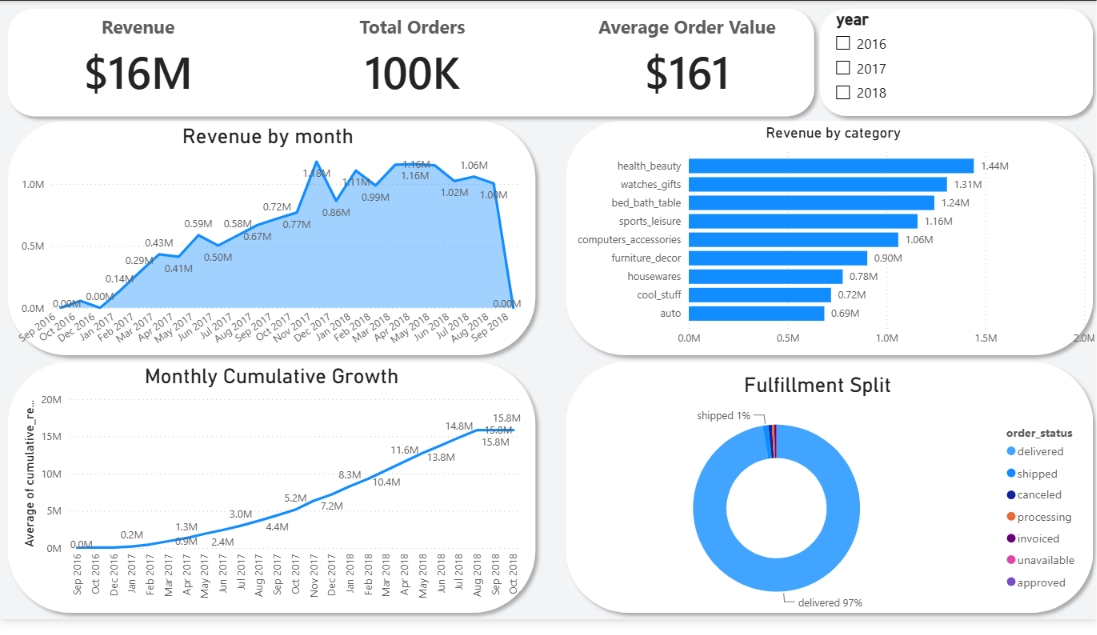

The dashboard page shown, as its layout file describes it:
{"tool":"powerbi","page":{"name":"Revenue & Sales Overview","canvas":[1280,810],"ordinal":0},"visuals":[{"type":"group","id":"g1","title":"Background","box":[0,0,1280.9,810],"z":0},{"type":"areaChart","title":"Revenue grew through 2017 and held around R$1M a month in 2018","fields":{"Category":["Sales & Revenue Data.month_date"],"Y":["Sales & Revenue Data.Total revenue"]},"box":[12.1,201.5,618.7,278.8],"z":1000},{"type":"barChart","title":"Health & Beauty and Watches & Gifts lead revenue (incl. freight)","fields":{"Category":["Query1.category"],"Y":["Sales & Revenue Data.Total_revenue"]},"box":[658.8,201.8,621.9,267.1],"z":2000},{"type":"lineChart","title":"Cumulative revenue passed R$15M by Aug 2018","fields":{"Category":["Sales & Revenue Data.month_date"],"Y":["Sales & Revenue Data.Cumulative Revenue"]},"box":[12.1,489.6,618.7,289.1],"z":3000},{"type":"slicer","fields":{"Values":["Query1.year"]},"box":[960.3,64.6,315.8,123.9],"z":5000},{"type":"shape","box":[0.7,58.5,955.8,143.3],"z":6000,"group":"g1"},{"type":"clusteredBarChart","fields":{"Category":["Sales & Revenue Data.order_status"],"Y":["Sales & Revenue Data.Total Orders"]},"box":[656.7,490.5,608,272],"z":6000},{"type":"shape","box":[641.1,480.3,639.4,297.4],"z":6250,"group":"g1"},{"type":"shape","box":[0.7,480.3,640.4,297.4],"z":6375,"group":"g1"},{"type":"shape","box":[0.7,189.1,640.4,304.7],"z":6500,"group":"g1"},{"type":"shape","box":[641.1,189.1,639.4,304.7],"z":6750,"group":"g1"},{"type":"shape","box":[944.9,58.5,336,143],"z":7000,"group":"g1"},{"type":"shape","box":[0,0,1280,64],"z":7250,"group":"g1"},{"type":"shape","box":[0,762,1280,48],"z":7500,"group":"g1"},{"type":"textbox","box":[16,768,1248,32],"z":9000},{"type":"textbox","box":[16,0,1264,48],"z":10000},{"type":"cardVisual","title":"Revenue (R$, items + freight)","fields":{"Data":["Sales & Revenue Data.Total revenue"]},"box":[11.6,64,306,125],"z":11000},{"type":"cardVisual","title":"Avg order value (R$, items + freight)","fields":{"Data":["Sales & Revenue Data.Average Order Value"]},"box":[640,64,304,128],"z":12000},{"type":"cardVisual","title":"Total Orders ","fields":{"Data":["Sales & Revenue Data.Total Orders"]},"box":[325.8,64,306,125],"z":13000}]}

Visuals, with their boxes on the page's 1280x810 design canvas (x1, y1, x2, y2). These are canvas units, not pixel positions in the 1097x635 screenshot, which may show the page scaled, cropped or inside an application window:
"Background" group: {"x1": 0, "y1": 0, "x2": 1281, "y2": 810}
"Revenue grew through 2017 and held around R$1M a month in 2018" areaChart: {"x1": 12, "y1": 202, "x2": 631, "y2": 480}
"Health & Beauty and Watches & Gifts lead revenue (incl. freight)" barChart: {"x1": 659, "y1": 202, "x2": 1281, "y2": 469}
"Cumulative revenue passed R$15M by Aug 2018" lineChart: {"x1": 12, "y1": 490, "x2": 631, "y2": 779}
slicer - Query1.year: {"x1": 960, "y1": 65, "x2": 1276, "y2": 188}
shape: {"x1": 1, "y1": 58, "x2": 956, "y2": 202}
clusteredBarChart - Sales & Revenue Data.order_status x Sales & Revenue Data.Total Orders: {"x1": 657, "y1": 490, "x2": 1265, "y2": 762}
shape: {"x1": 641, "y1": 480, "x2": 1280, "y2": 778}
shape: {"x1": 1, "y1": 480, "x2": 641, "y2": 778}
shape: {"x1": 1, "y1": 189, "x2": 641, "y2": 494}
shape: {"x1": 641, "y1": 189, "x2": 1280, "y2": 494}
shape: {"x1": 945, "y1": 58, "x2": 1281, "y2": 202}
shape: {"x1": 0, "y1": 0, "x2": 1280, "y2": 64}
shape: {"x1": 0, "y1": 762, "x2": 1280, "y2": 810}
textbox: {"x1": 16, "y1": 768, "x2": 1264, "y2": 800}
textbox: {"x1": 16, "y1": 0, "x2": 1280, "y2": 48}
"Revenue (R$, items + freight)" cardVisual: {"x1": 12, "y1": 64, "x2": 318, "y2": 189}
"Avg order value (R$, items + freight)" cardVisual: {"x1": 640, "y1": 64, "x2": 944, "y2": 192}
"Total Orders " cardVisual: {"x1": 326, "y1": 64, "x2": 632, "y2": 189}
